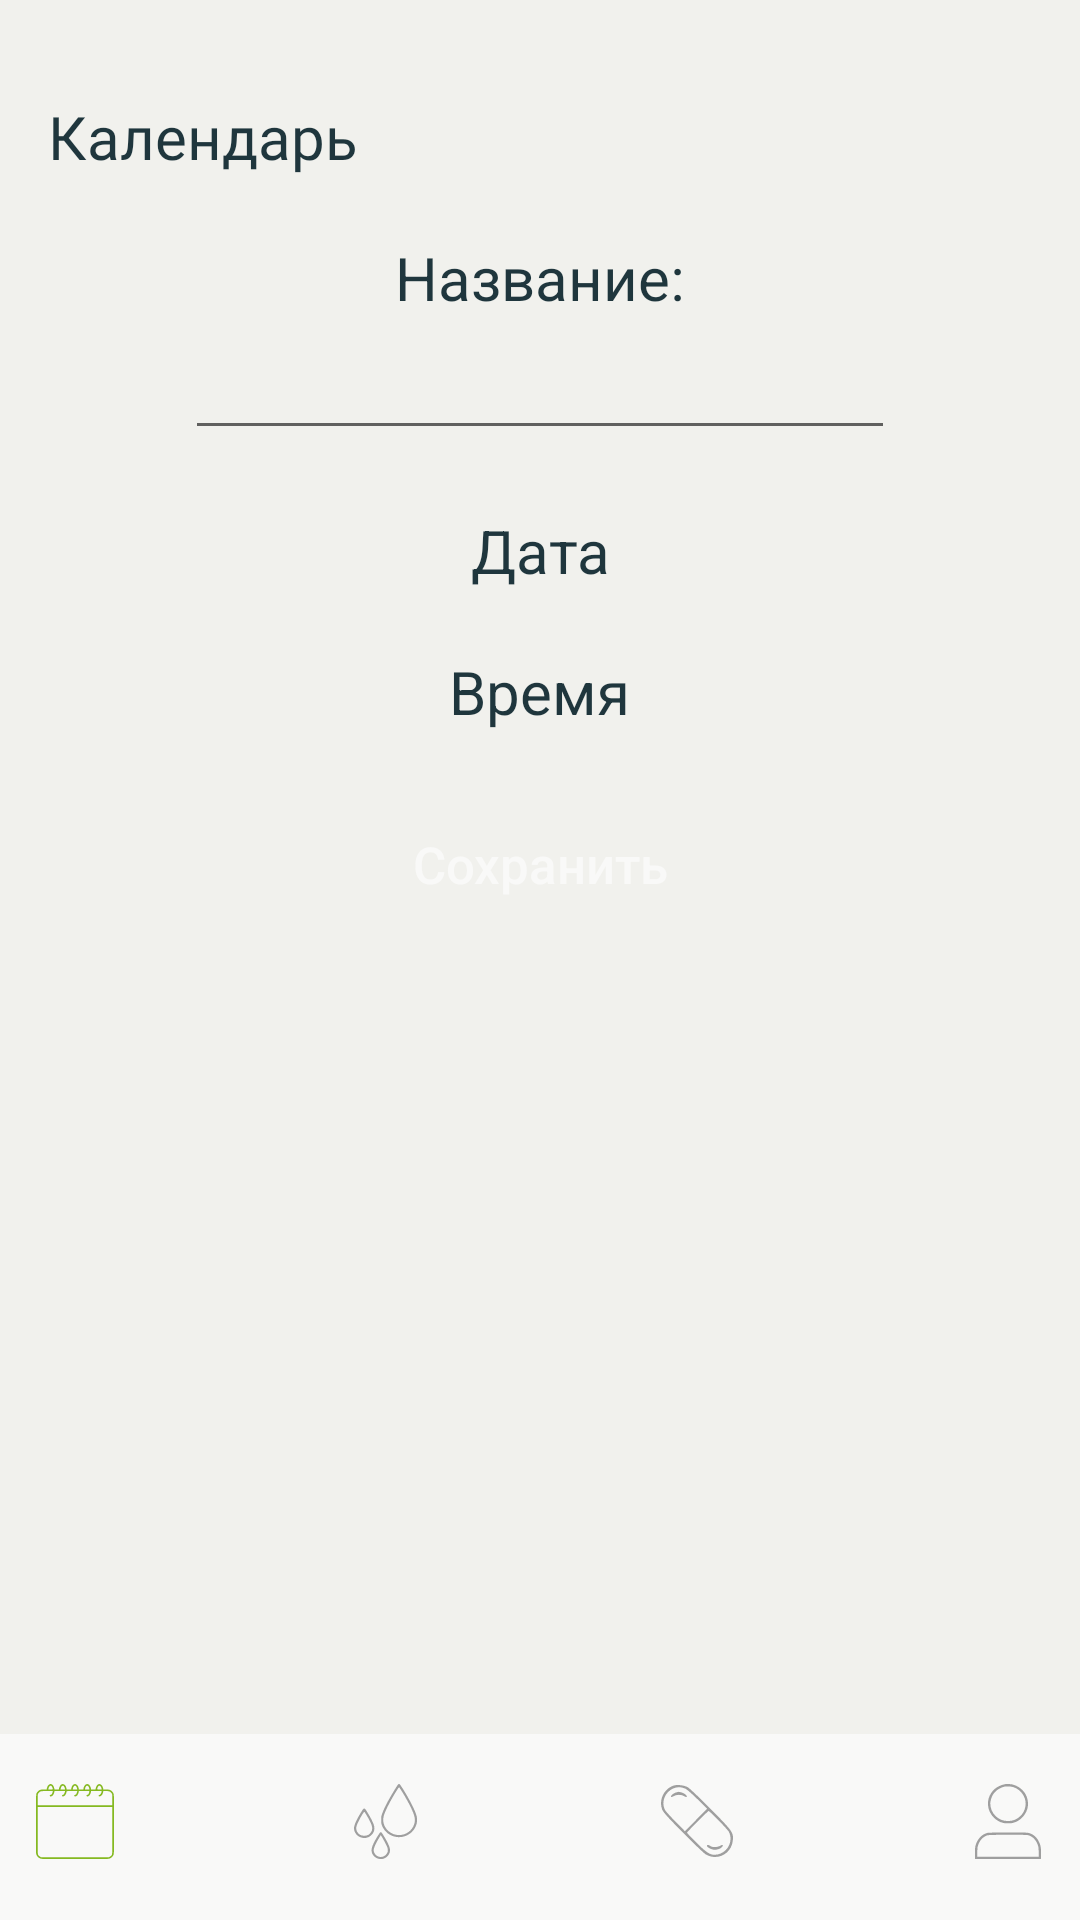

Named icons in this screenshot (1080x1920) and their bounding boxes, (x1,y1,x2,y2):
lekgray: (661,1785,733,1857)
Водный баланс: (354,1784,417,1859)
